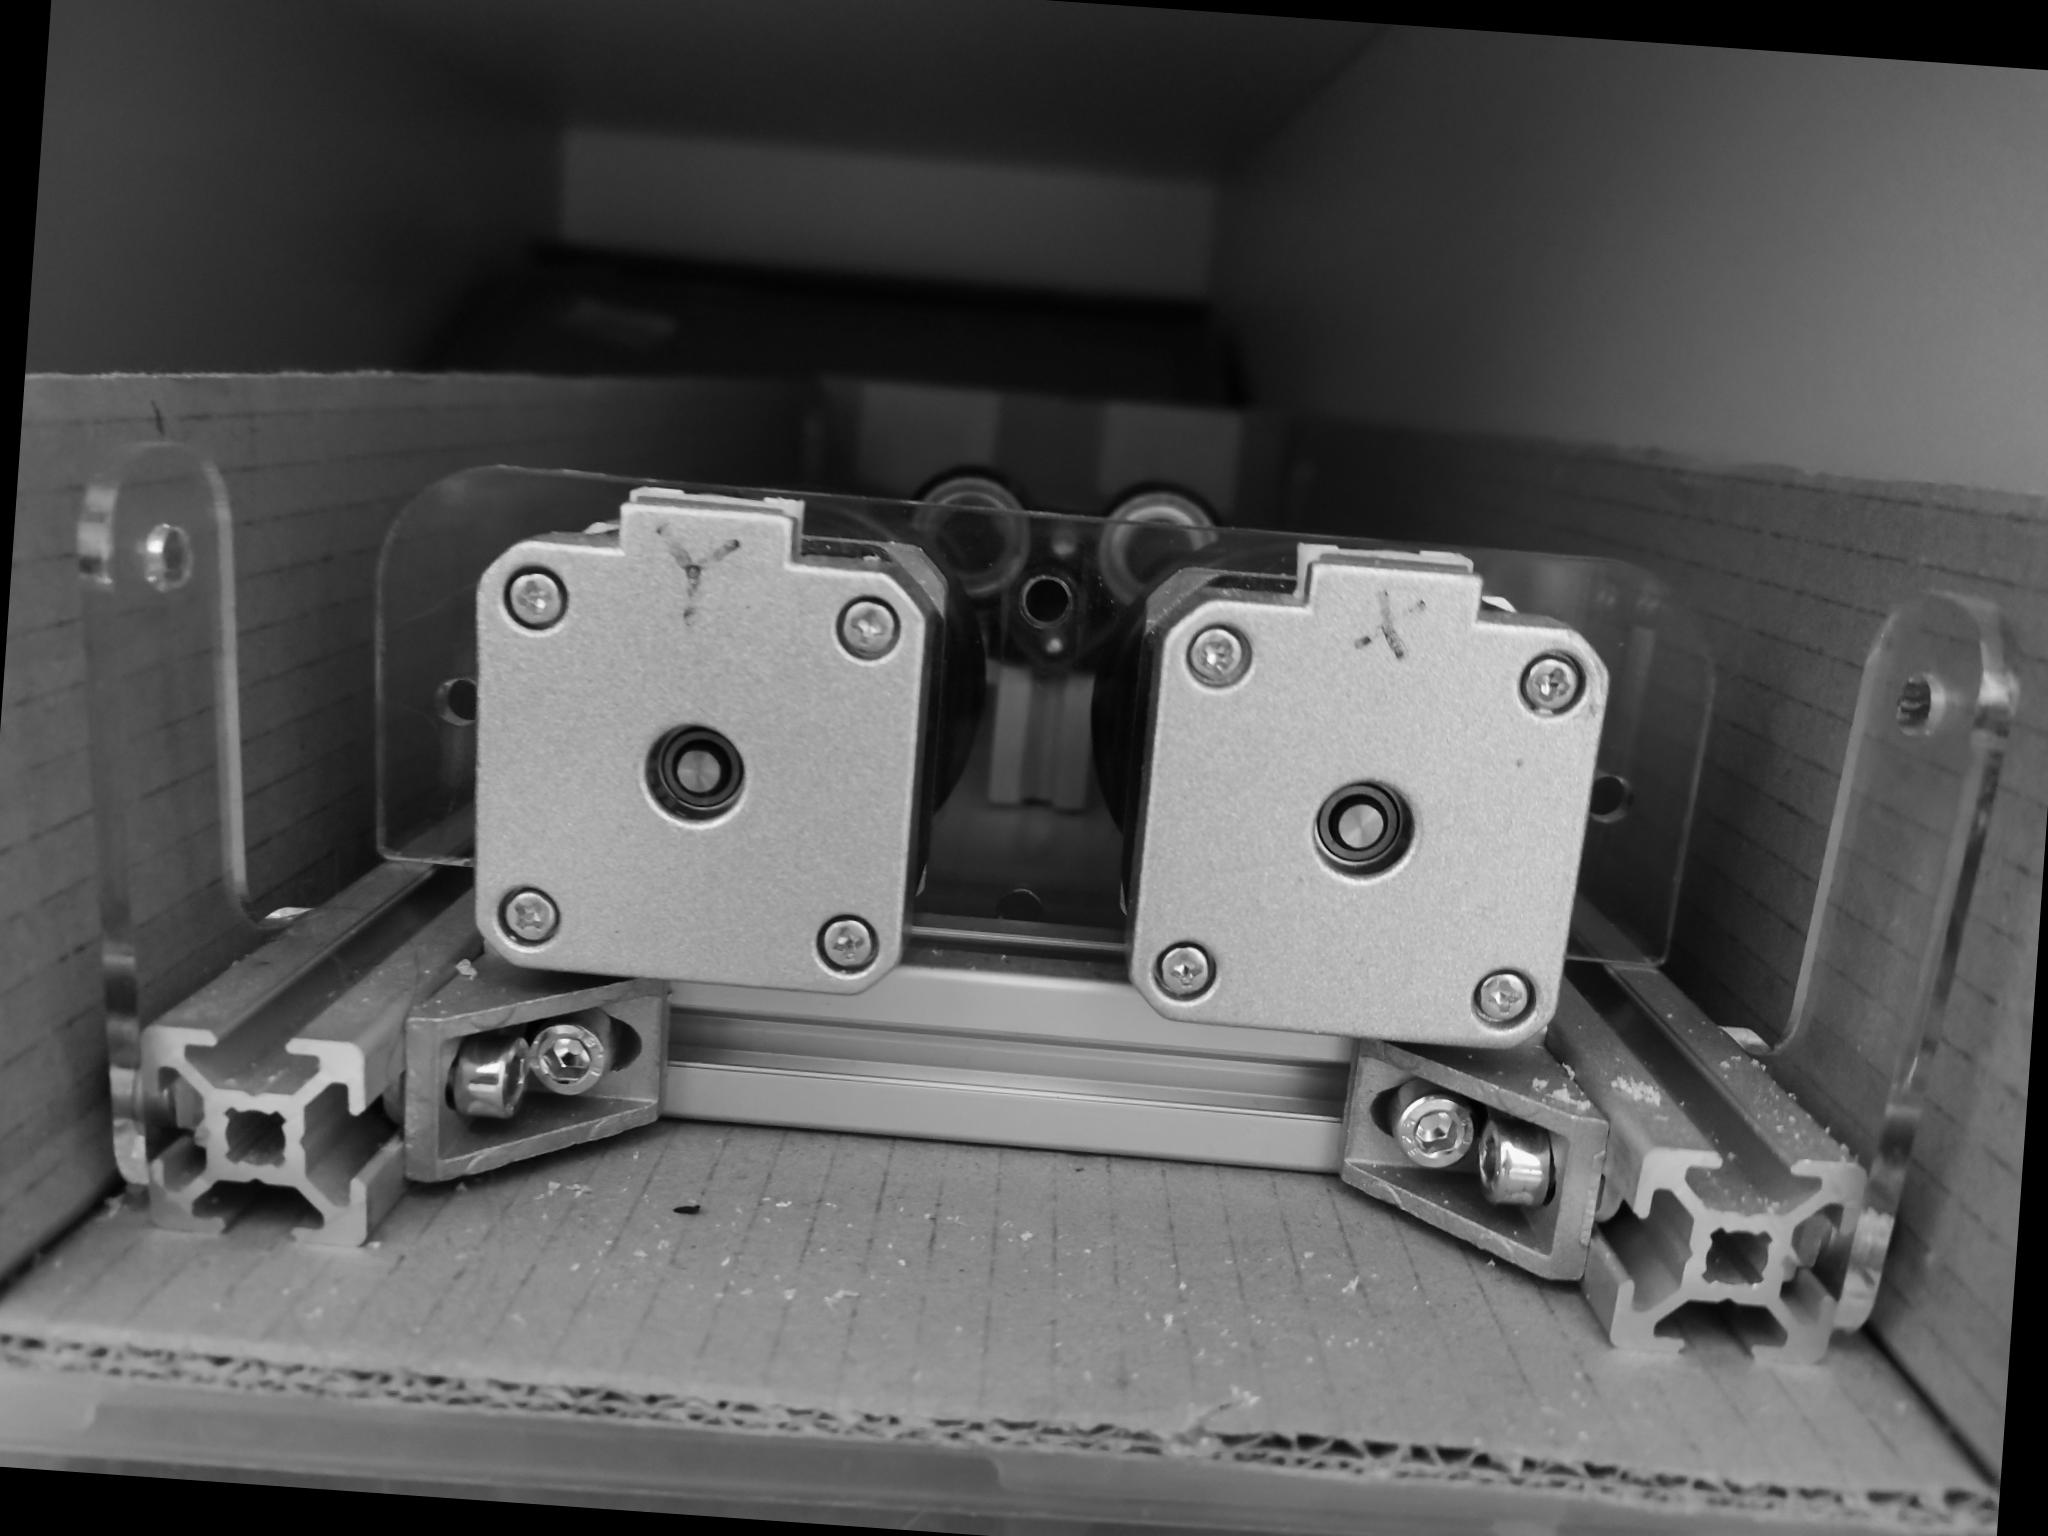screw: (1392, 1081, 1485, 1178), (524, 1016, 611, 1104), (1516, 647, 1596, 724), (1182, 620, 1259, 695), (498, 561, 574, 634), (492, 881, 566, 954), (832, 594, 906, 663), (1153, 939, 1222, 1007), (1472, 966, 1542, 1033), (813, 913, 884, 978)
